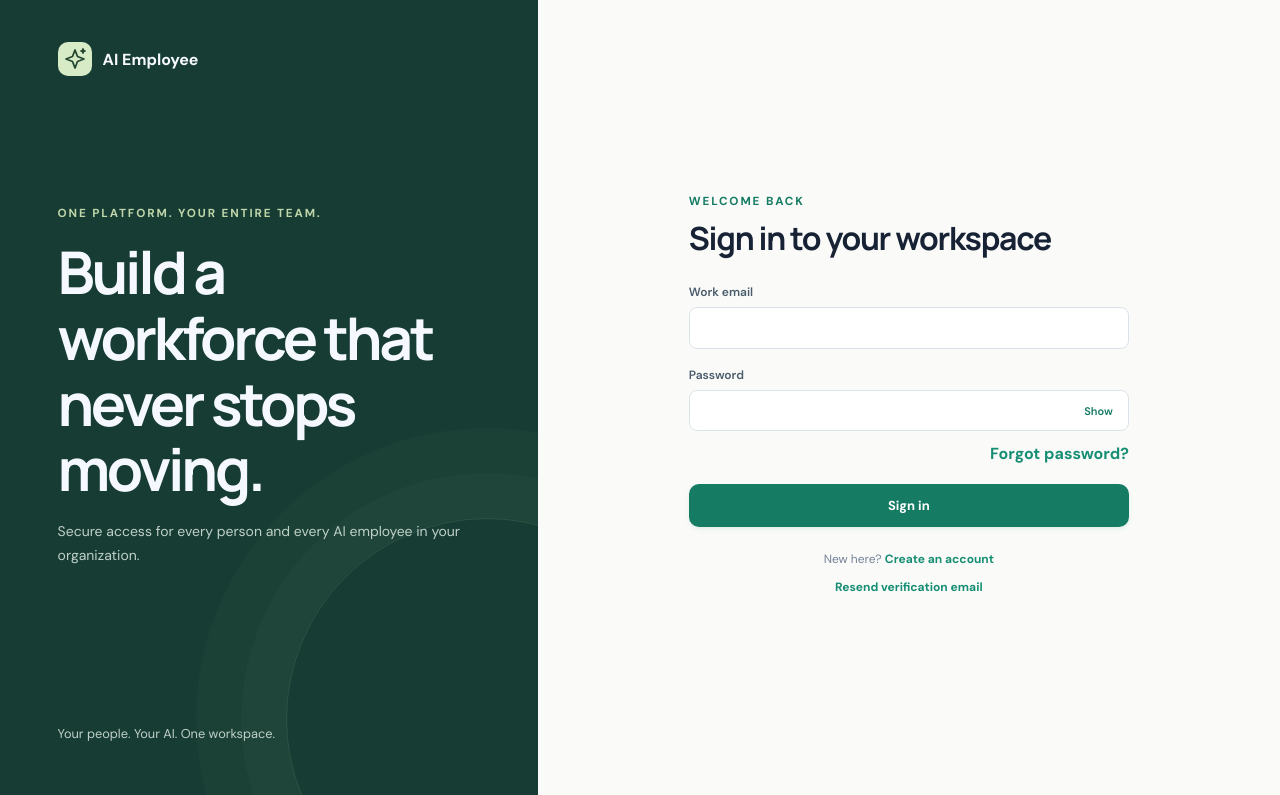
Test: authentication UI › signs in and renders the tenant member list
Step 1. Type "owner@example.com" into the field labelled "Work email" → (909, 328), box [689,307,1129,349]
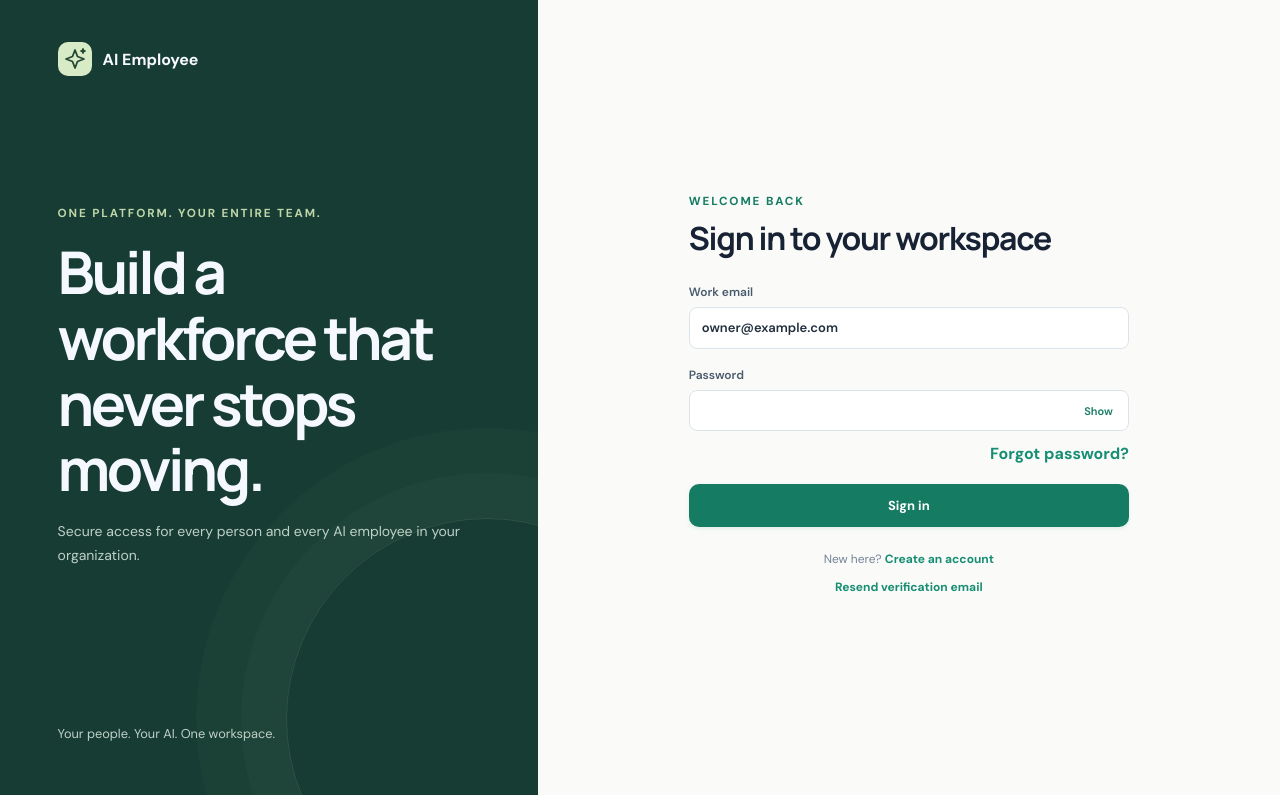
Step 2. Type "VerySecure123!" into the password field labelled "Password" → (909, 411), box [689,390,1129,431]
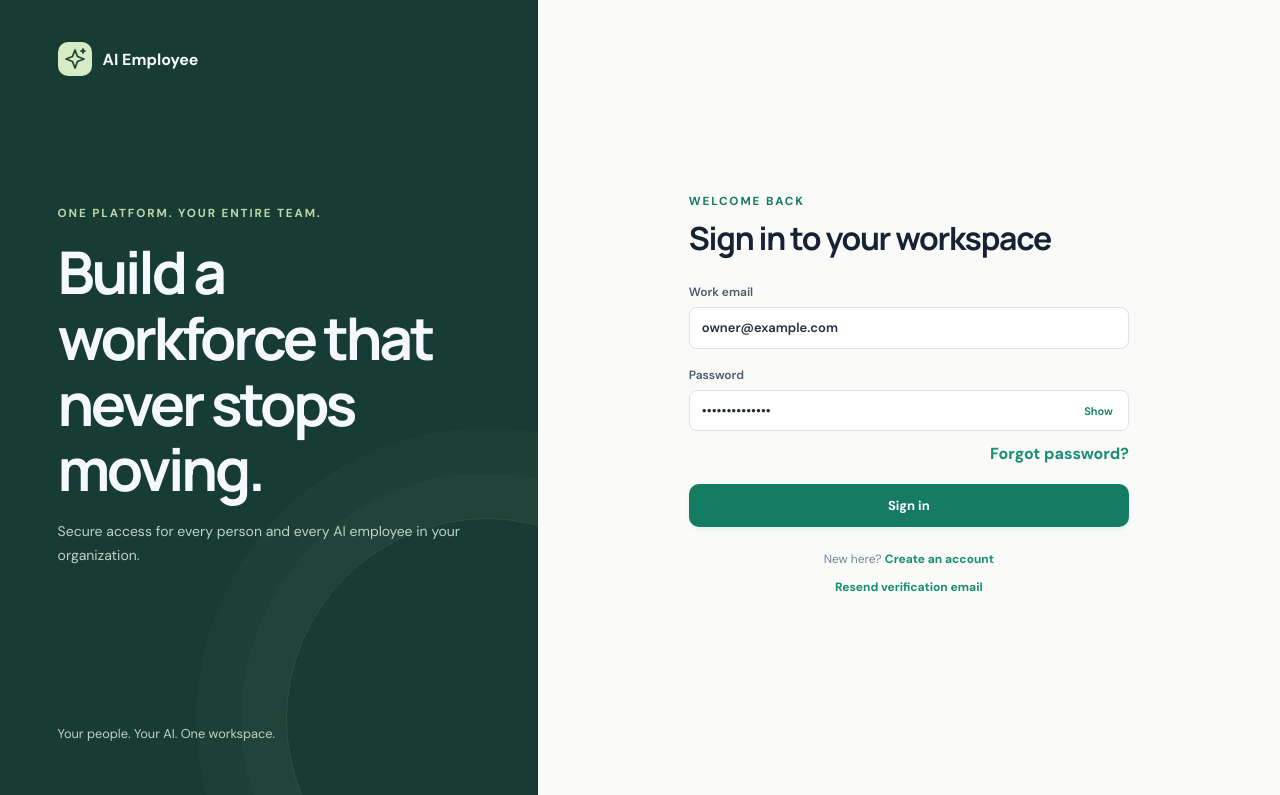
Step 3. Click the button "Sign in" → click(909, 506), box [689,484,1129,527]
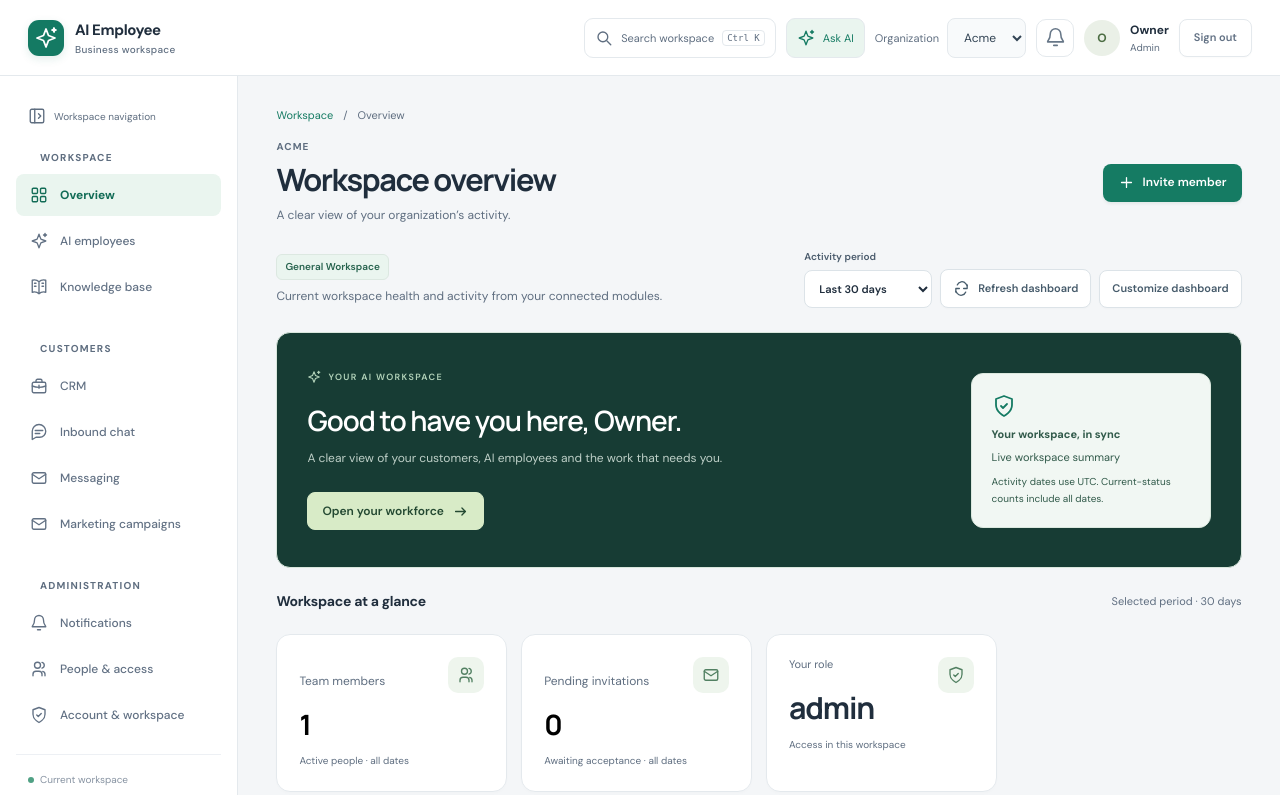
Expected: the heading "Workspace overview" is shown, [276,161,556,198]
Step 4. Click the button "People & access" → click(118, 669), box [16,648,221,690]
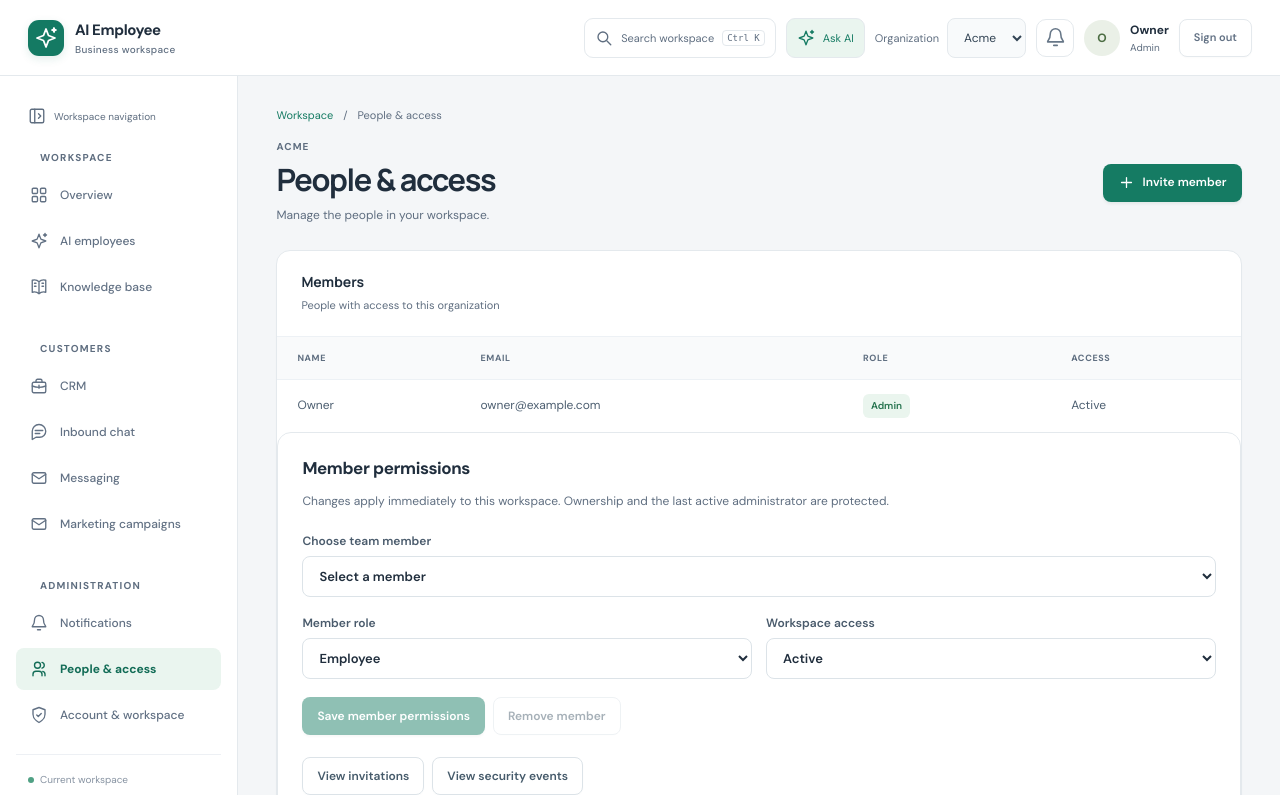
Expected: the cell "owner@example.com" is shown, [460,380,843,432]
